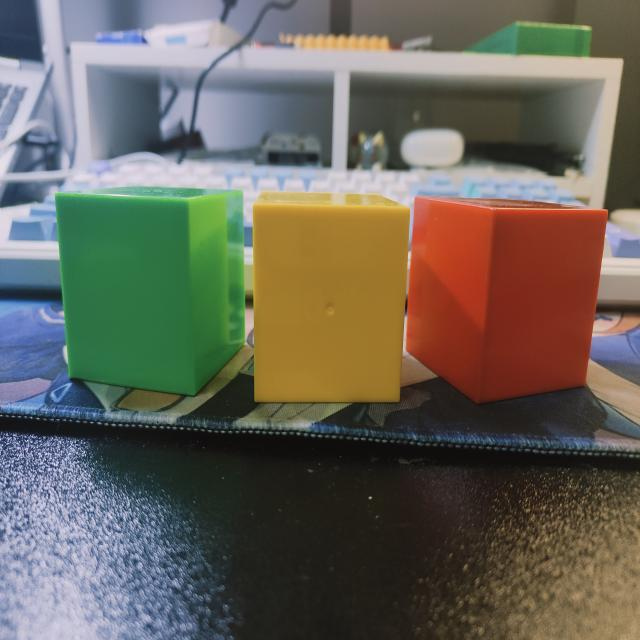green: (54, 184, 253, 399)
red: (403, 194, 609, 407)
yellow: (252, 192, 411, 405)
